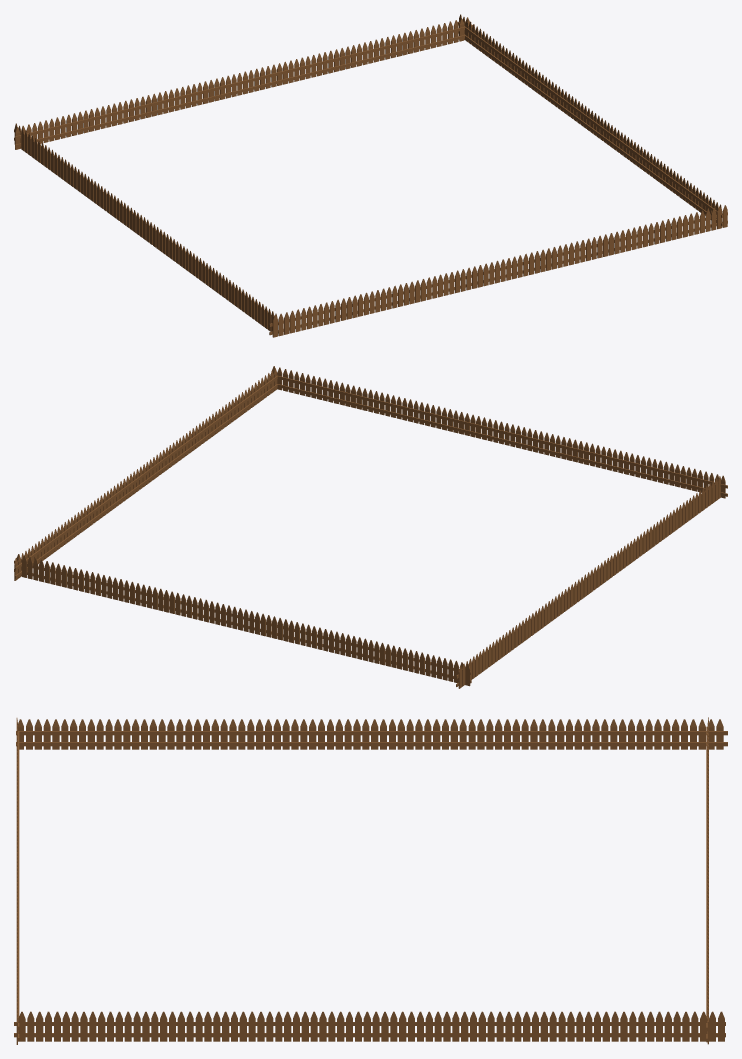
File: fencesquare.glb
3 views of the same model, one above another, from view 1: azimuth 30°, elevation 25°; view 2: azimuth 150°, elevation 25°; view 3: azimuth 270°, elevation 25° (orthographic). The views are drawn at different scales.
Visible parts, largest first — view 1: Cube.002, Cube.003, Cube.004, Cube.001; view 2: Cube.003, Cube.002, Cube.004, Cube.001; view 3: Cube.004, Cube.001, Cube.002, Cube.003.
Part boxes in pixels (x1,y1,x2,y2): Cube.002: (269, 205, 727, 337); Cube.003: (15, 17, 472, 149); Cube.004: (14, 123, 279, 336); Cube.001: (457, 14, 722, 227); Cube.003: (14, 554, 471, 686); Cube.002: (270, 366, 727, 498); Cube.004: (456, 476, 720, 688); Cube.001: (14, 368, 277, 580); Cube.004: (16, 719, 727, 749); Cube.001: (14, 1011, 725, 1041); Cube.002: (16, 718, 19, 1044); Cube.003: (706, 717, 708, 1044).
Size of the model in its own units: 95.18 by 4.37 by 95.18.
